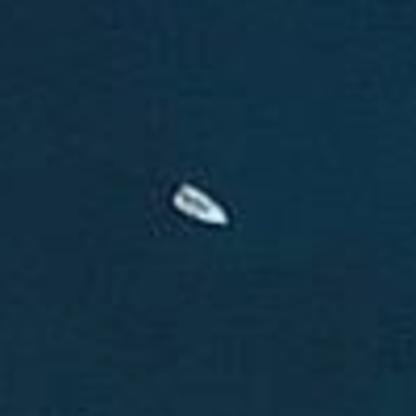ship: (160, 170, 234, 236)
